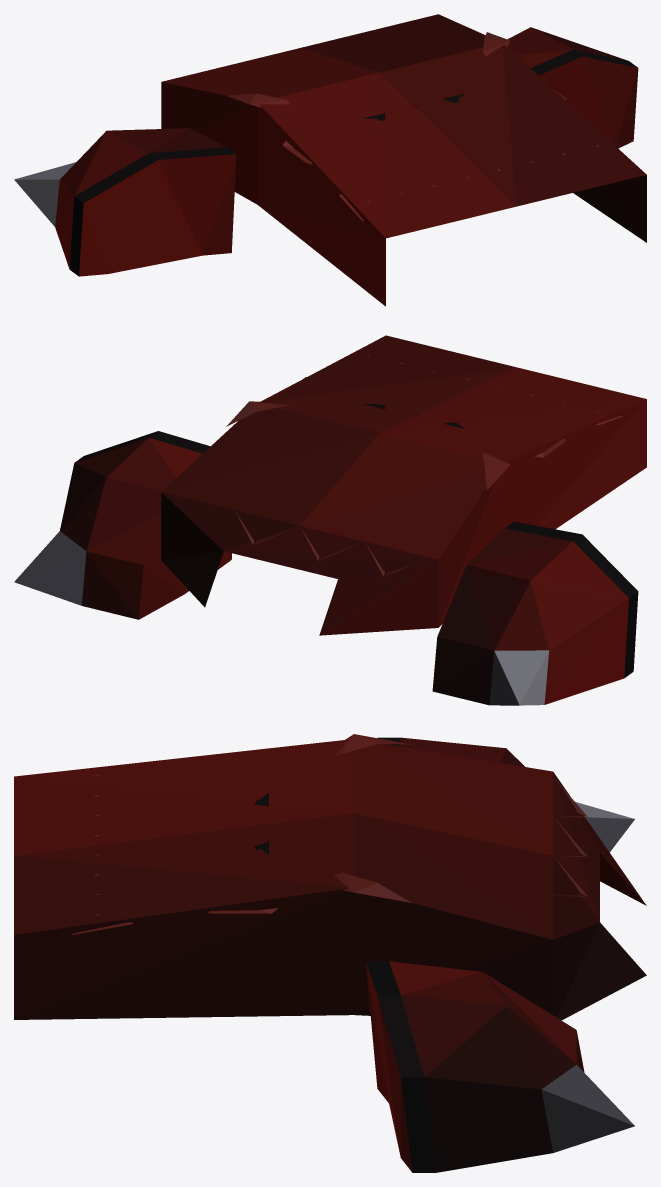
File: dragon-chainbody.obj
The picture shows the model from 3 angles, top to bottom: view 1: azimuth 30°, elevation 25°; view 2: azimuth 150°, elevation 25°; view 3: azimuth 270°, elevation 25°; orthographic projection. The views are drawn at different scales.
Parts seen in each view (by area): view 1: Item Dragon chainbody 2026-09-24_18-23-39; view 2: Item Dragon chainbody 2026-09-24_18-23-39; view 3: Item Dragon chainbody 2026-09-24_18-23-39.
Boxes of the visible parts, bbox=[...] form: Item Dragon chainbody 2026-09-24_18-23-39: bbox=[14, 14, 646, 306]; Item Dragon chainbody 2026-09-24_18-23-39: bbox=[14, 335, 646, 705]; Item Dragon chainbody 2026-09-24_18-23-39: bbox=[14, 734, 646, 1172].
Size of the model in its own units: 68 by 18 by 54.
